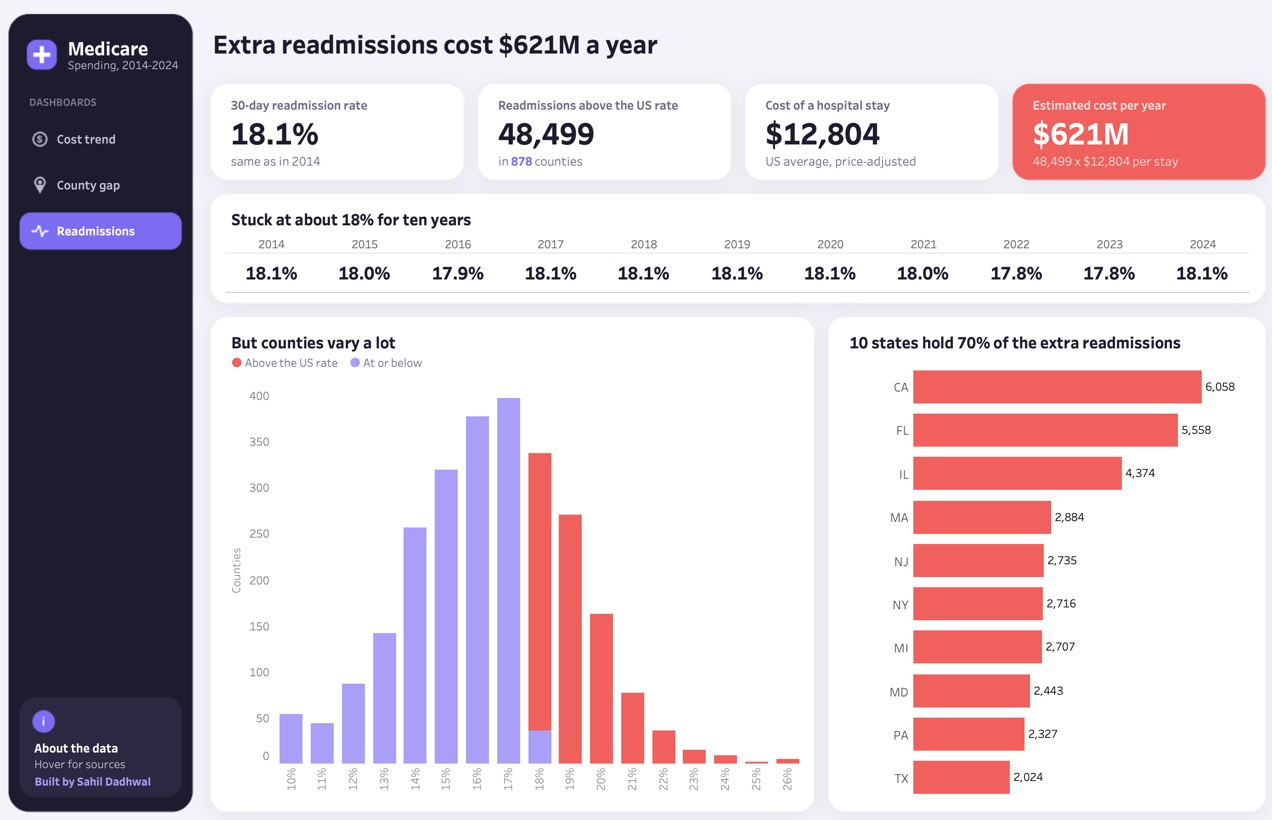

Layout of this report page (visuals, bound fields, positions):
{"tool":"tableau","page":{"name":"3 Readmissions","canvas":[1400,900],"ordinal":2},"visuals":[{"type":"image","param":"Image/bg_tab3.png","box":[0,0,1400,900]},{"type":"text","box":[236,30,1148,36]},{"type":"text","box":[78,42,130,22]},{"type":"text","box":[78,63,130,16]},{"type":"worksheet","title":"T3 KPI Rate","mark":"Text","box":[254,102,249,88]},{"type":"worksheet","title":"T3 KPI Extra","mark":"Text","box":[545,102,249,88]},{"type":"worksheet","title":"T3 KPI Cost Per Stay","mark":"Text","box":[836,102,249,88]},{"type":"worksheet","title":"T3 KPI Cost","mark":"Text","box":[1127,102,249,88]},{"type":"text","box":[36,104,150,16]},{"type":"dashboard-object","box":[28,132,176,40]},{"type":"text","box":[66,143,138,18]},{"type":"dashboard-object","box":[28,182,176,40]},{"type":"text","box":[66,193,138,18]},{"type":"text","box":[256,228,1108,22]},{"type":"text","box":[66,243,138,18]},{"type":"worksheet","title":"T3 Rate Strip","mark":"Text","cols":["Calculation_59854813692036"],"box":[252,256,1116,64]},{"type":"text","box":[256,362,616.6,22]},{"type":"text","box":[928.6,362,435.4,22]},{"type":"text","box":[256,386,616.6,18]},{"type":"worksheet","title":"T3 Top States","mark":"Bar","rows":["state_code"],"cols":["Calculation_246598394211175"],"box":[920.6,398,451.4,474]},{"type":"worksheet","title":"T3 County Histogram","mark":"Bar","rows":["Calculation_270944078718781"],"cols":["Calculation_245429733911483"],"box":[248,414,632.6,458]},{"type":"worksheet","title":"About 3 Readmissions","mark":"Text","box":[40,804,158,40]},{"type":"text","box":[42,842,152,18]}]}

Visuals, with their boxes on the page's 1400x900 design canvas (x1, y1, x2, y2). These are canvas units, not pixel positions in the 1272x820 screenshot, which may show the page scaled, cropped or inside an application window:
image: l=0, t=0, r=1400, b=900
text: l=236, t=30, r=1384, b=66
text: l=78, t=42, r=208, b=64
text: l=78, t=63, r=208, b=79
"T3 KPI Rate" worksheet (Text marks): l=254, t=102, r=503, b=190
"T3 KPI Extra" worksheet (Text marks): l=545, t=102, r=794, b=190
"T3 KPI Cost Per Stay" worksheet (Text marks): l=836, t=102, r=1085, b=190
"T3 KPI Cost" worksheet (Text marks): l=1127, t=102, r=1376, b=190
text: l=36, t=104, r=186, b=120
dashboard-object: l=28, t=132, r=204, b=172
text: l=66, t=143, r=204, b=161
dashboard-object: l=28, t=182, r=204, b=222
text: l=66, t=193, r=204, b=211
text: l=256, t=228, r=1364, b=250
text: l=66, t=243, r=204, b=261
"T3 Rate Strip" worksheet (Text marks): l=252, t=256, r=1368, b=320
text: l=256, t=362, r=873, b=384
text: l=929, t=362, r=1364, b=384
text: l=256, t=386, r=873, b=404
"T3 Top States" worksheet (Bar marks): l=921, t=398, r=1372, b=872
"T3 County Histogram" worksheet (Bar marks): l=248, t=414, r=881, b=872
"About 3 Readmissions" worksheet (Text marks): l=40, t=804, r=198, b=844
text: l=42, t=842, r=194, b=860
